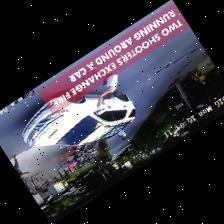person: (96, 73, 117, 106), (12, 155, 27, 178), (117, 129, 128, 139), (195, 69, 204, 81)
